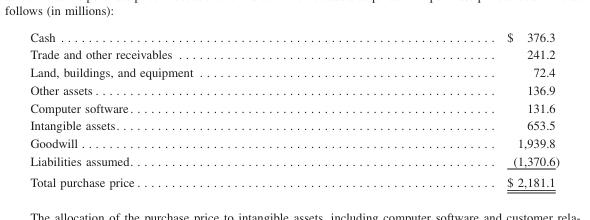table: (29, 29, 558, 188)
table column: (29, 29, 349, 188), (349, 29, 558, 188)
table row: (29, 151, 558, 170), (29, 45, 558, 63), (29, 80, 558, 98), (29, 98, 558, 116), (29, 133, 558, 151), (29, 170, 558, 188), (29, 63, 558, 80), (29, 116, 558, 133), (29, 29, 558, 45)
